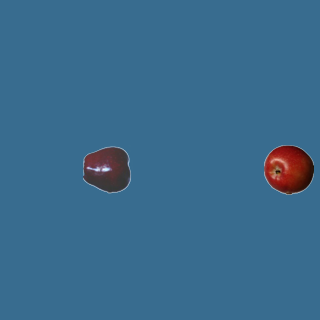Apple Braeburn: (263, 144, 313, 194)
Apple Red Delicious: (82, 144, 132, 194)
